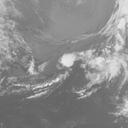cyclone: (57, 51, 76, 72)
